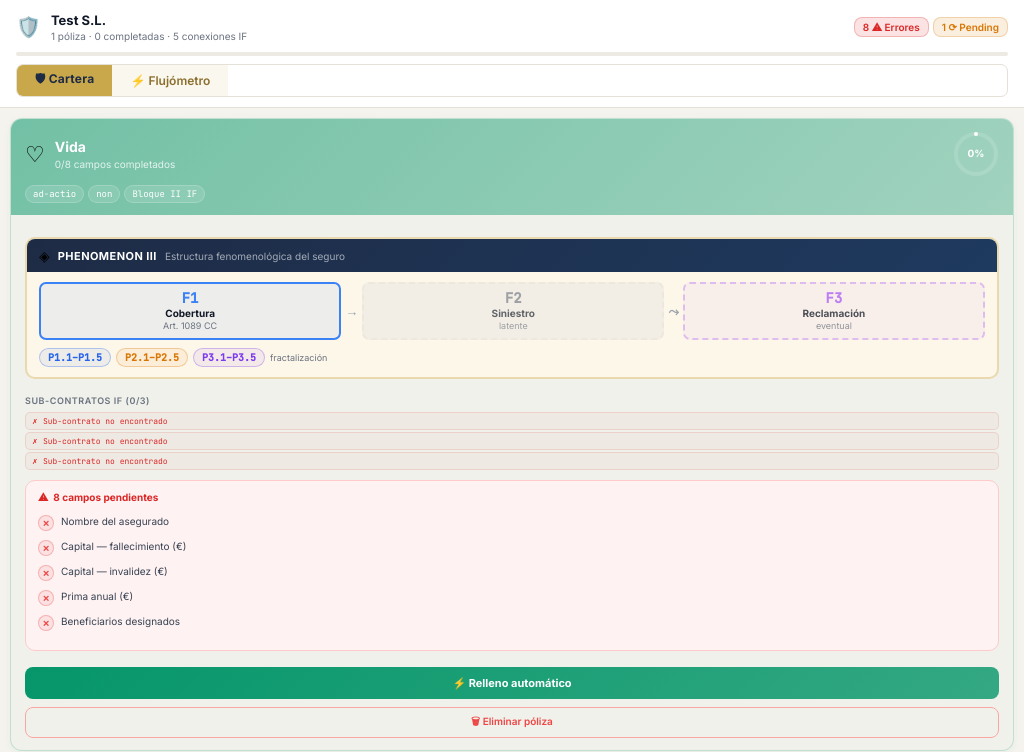
it: SegurosComparativeView — tab navigation › switches to Flujómetro tab on button click
The width and height of the screenshot is (1024, 752).
Click the button "⚡ Flujómetro": point(170, 80) [112,65,228,96]
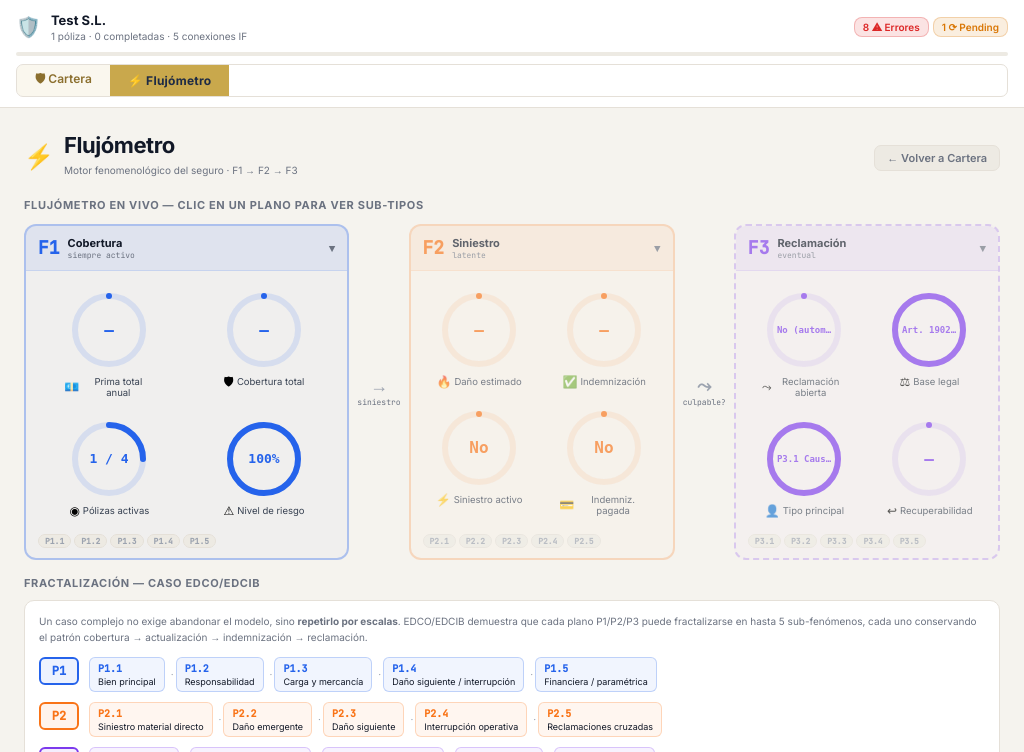
Expected: the text "Motor fenomenológico del seguro · F1 → F2 → F3" is shown, [64,164,298,176]
